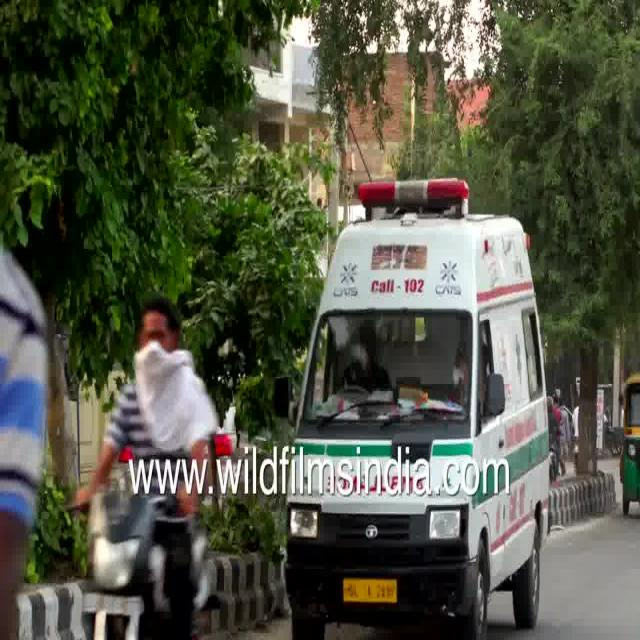ambulance: (290, 159, 541, 442)
